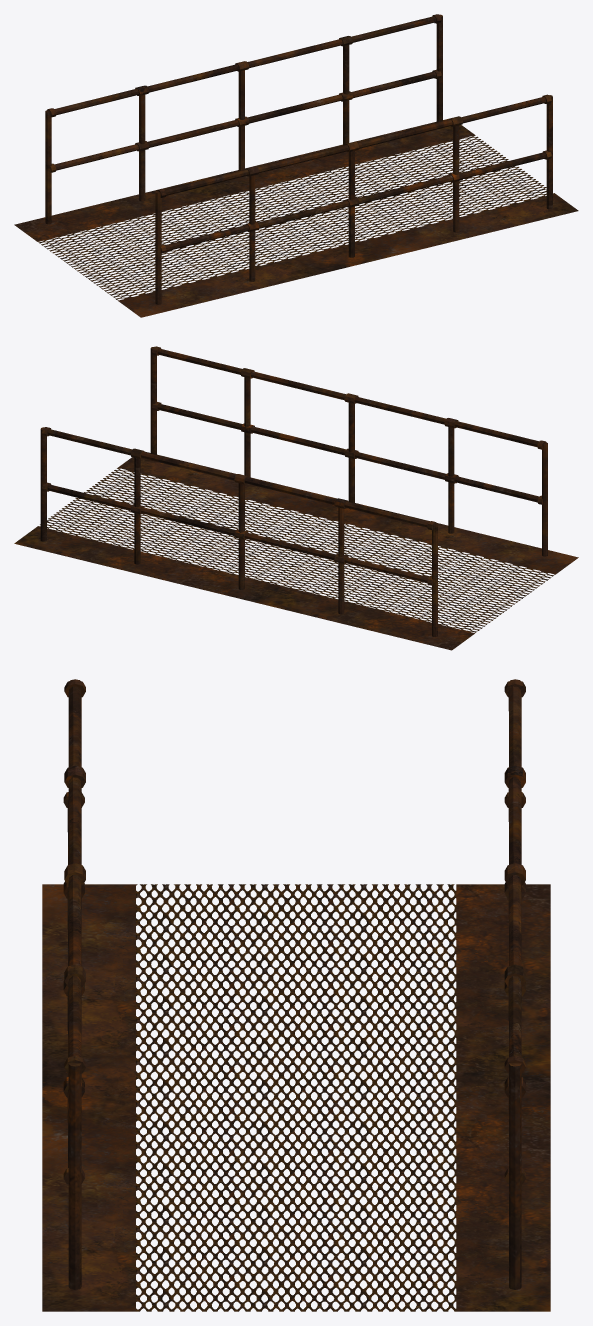
Rendered from catwalk.fbx.
3 views of the same model, one above another, from view 1: azimuth 30°, elevation 25°; view 2: azimuth 150°, elevation 25°; view 3: azimuth 270°, elevation 25° (orthographic). The views are drawn at different scales.
Visible parts, largest first — view 1: polySurface49; view 2: polySurface49; view 3: polySurface49.
Part boxes in pixels (x1,y1,x2,y2): polySurface49: [14, 14, 578, 317]; polySurface49: [14, 346, 578, 650]; polySurface49: [42, 679, 550, 1311].
Size of the model in its own units: 94.16 by 23.68 by 47.32.
